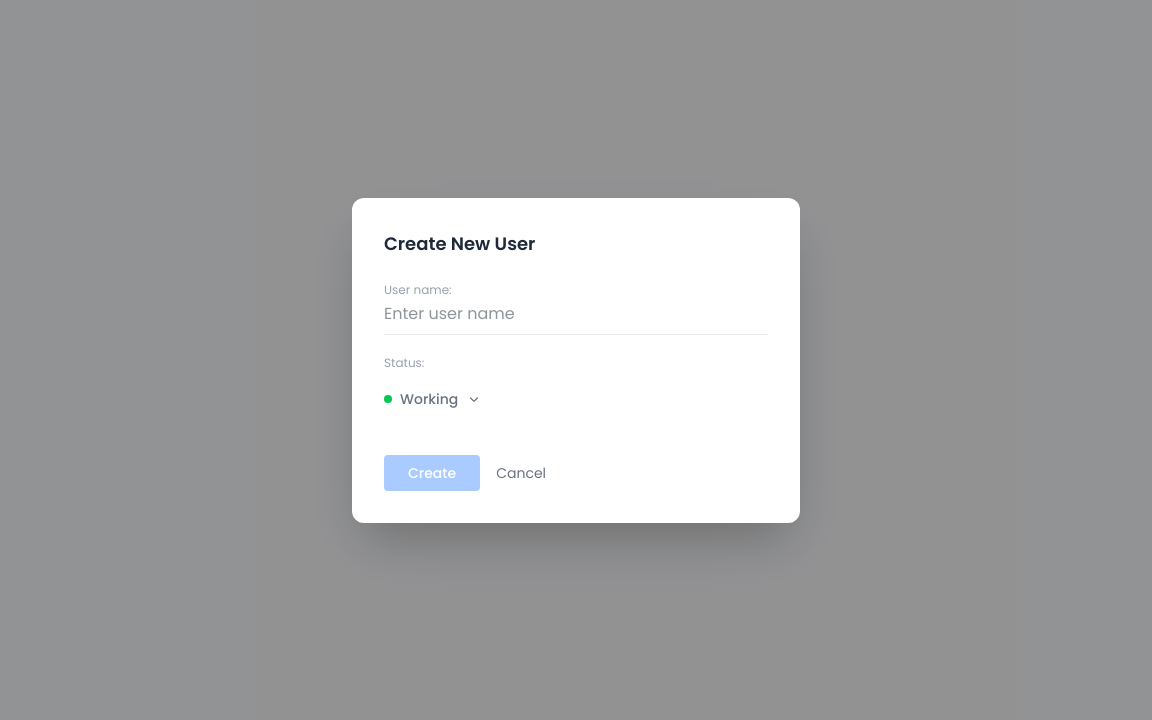
Test: CreateEmployeeModal › ignores non-alphabetical characters in name input
Type "John123! Smith" into the field with placeholder "Enter user name" at x=576, y=318, box top-left (384, 302), bottom-right (768, 334)
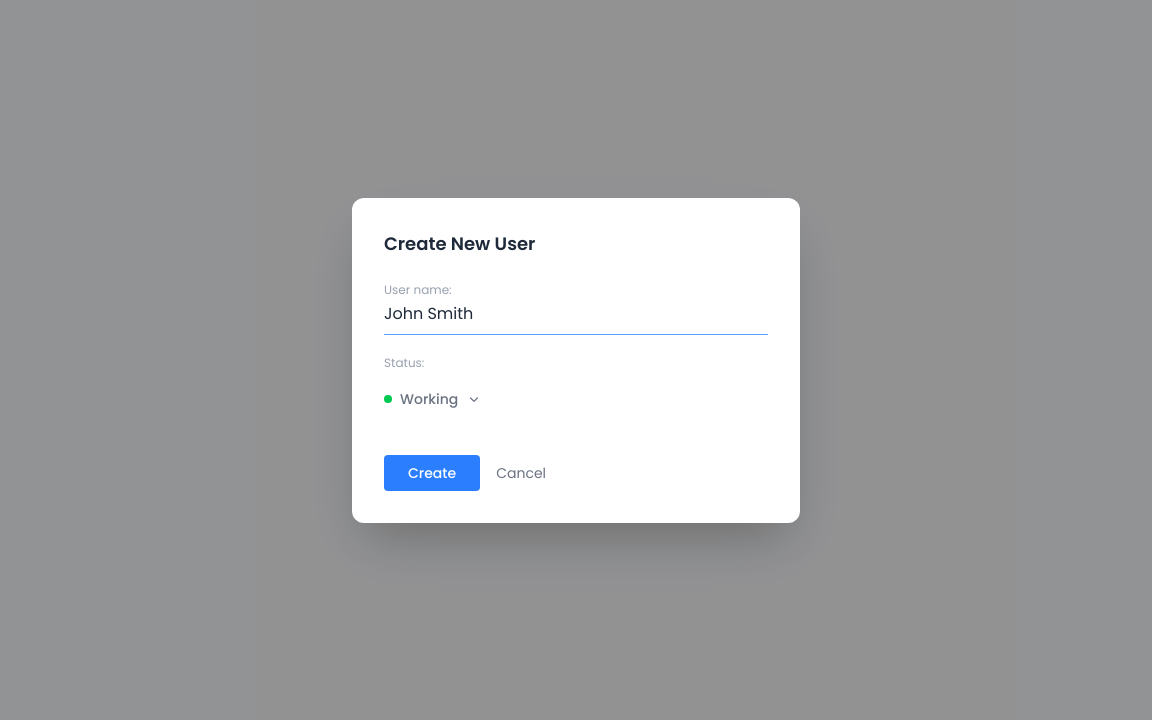
Expected: the field showing "John Smith" is shown, top-left (384, 302), bottom-right (768, 334)
